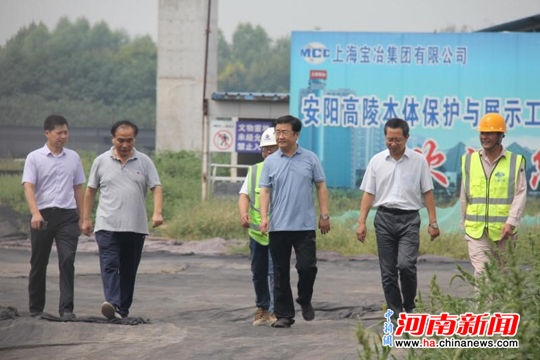none: (108, 120, 140, 154), (272, 114, 302, 149), (40, 114, 70, 148), (382, 118, 409, 152)
white: (260, 127, 279, 159)
yellow: (475, 112, 508, 150)
